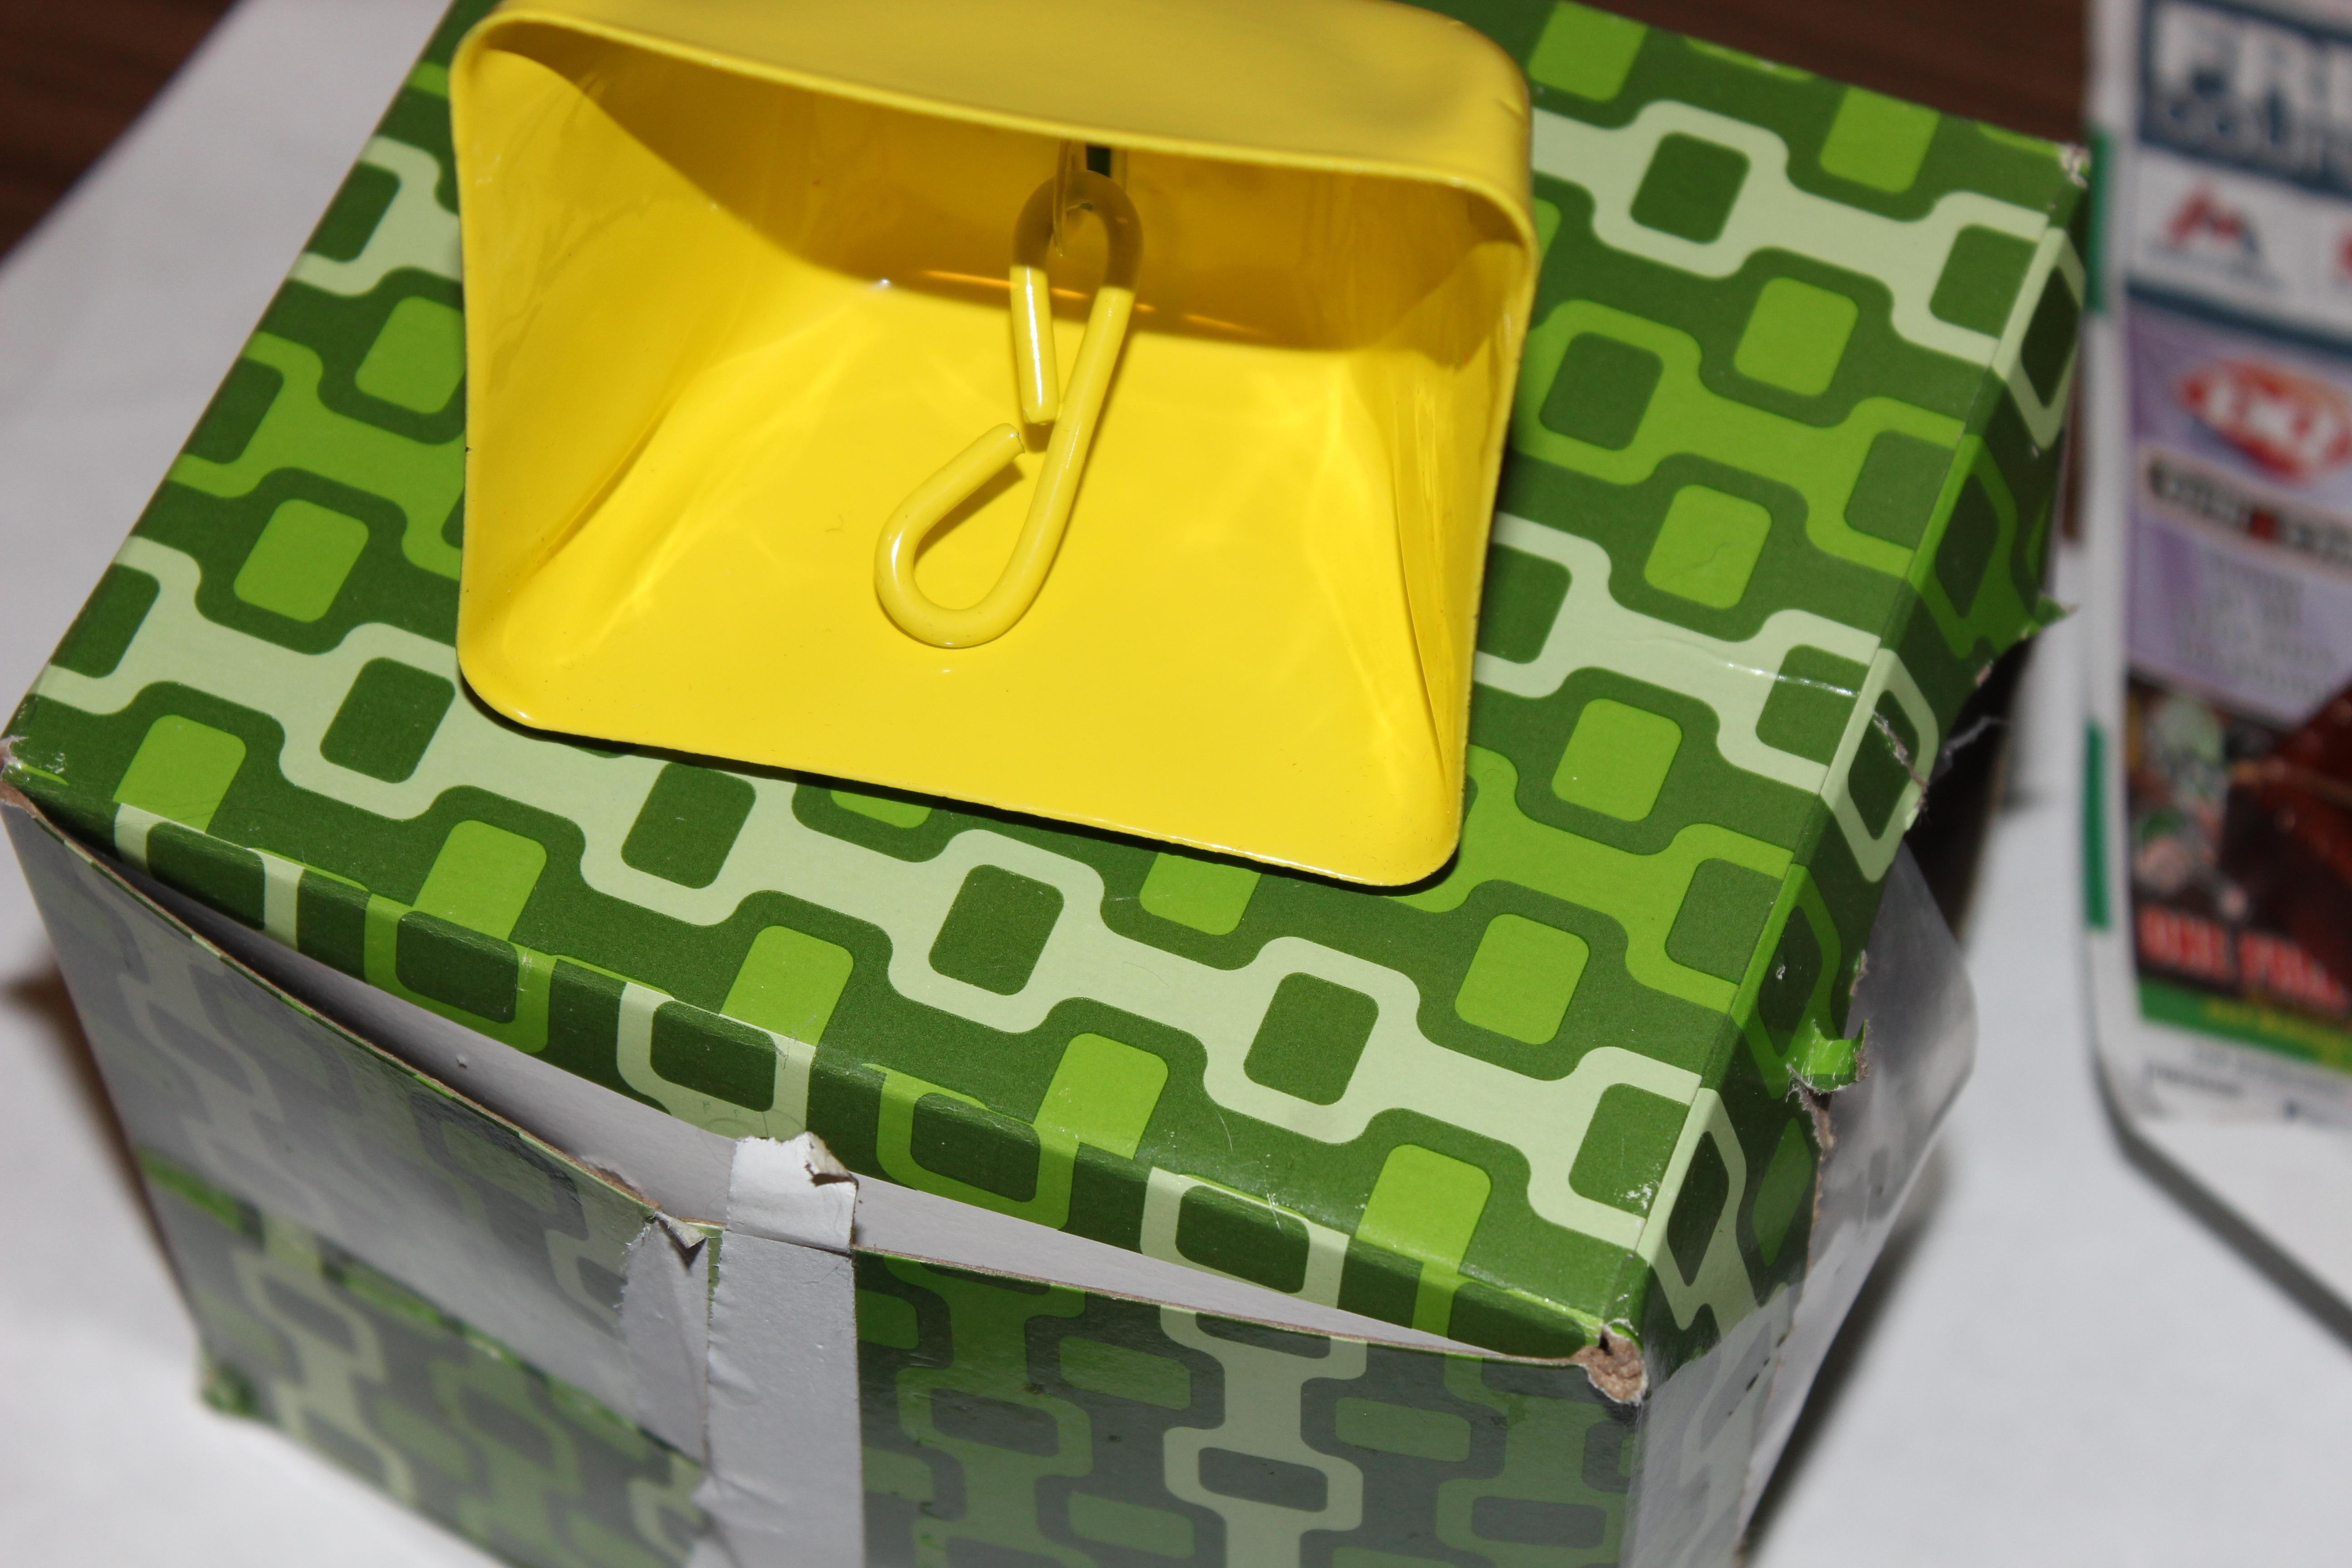cowbell: (404, 0, 1570, 914)
